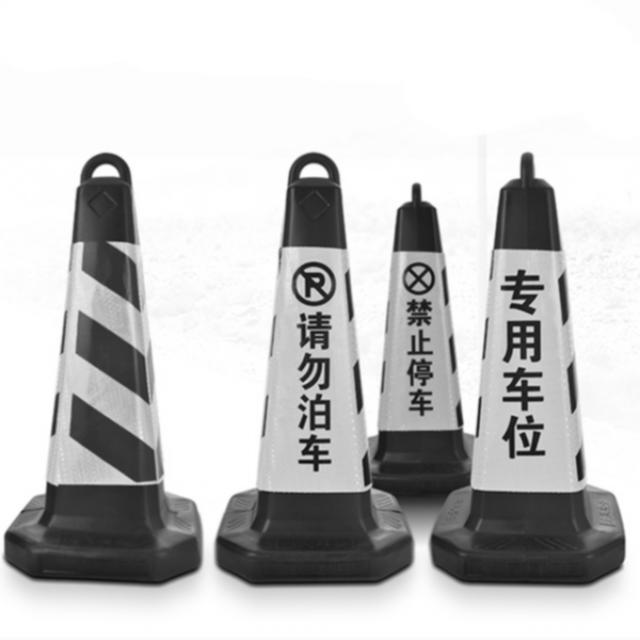reflective_cone: (211, 152, 417, 584), (428, 153, 625, 584), (3, 148, 196, 584), (364, 182, 470, 491)
